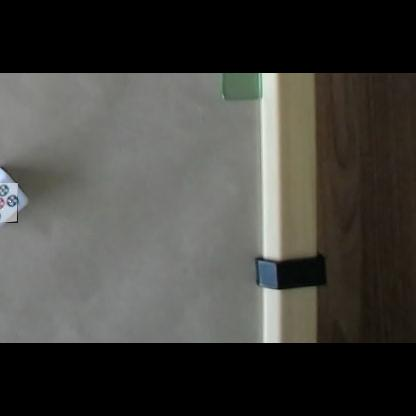5p: (0, 183, 18, 223)
